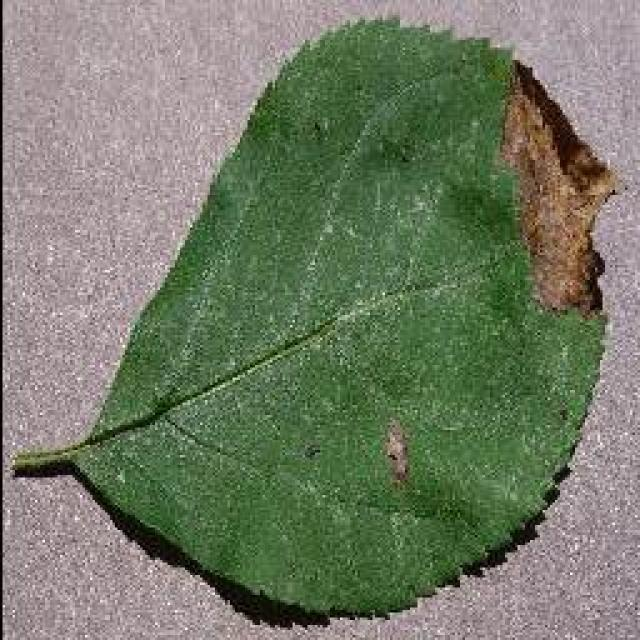apple black rot: (10, 12, 615, 628)
